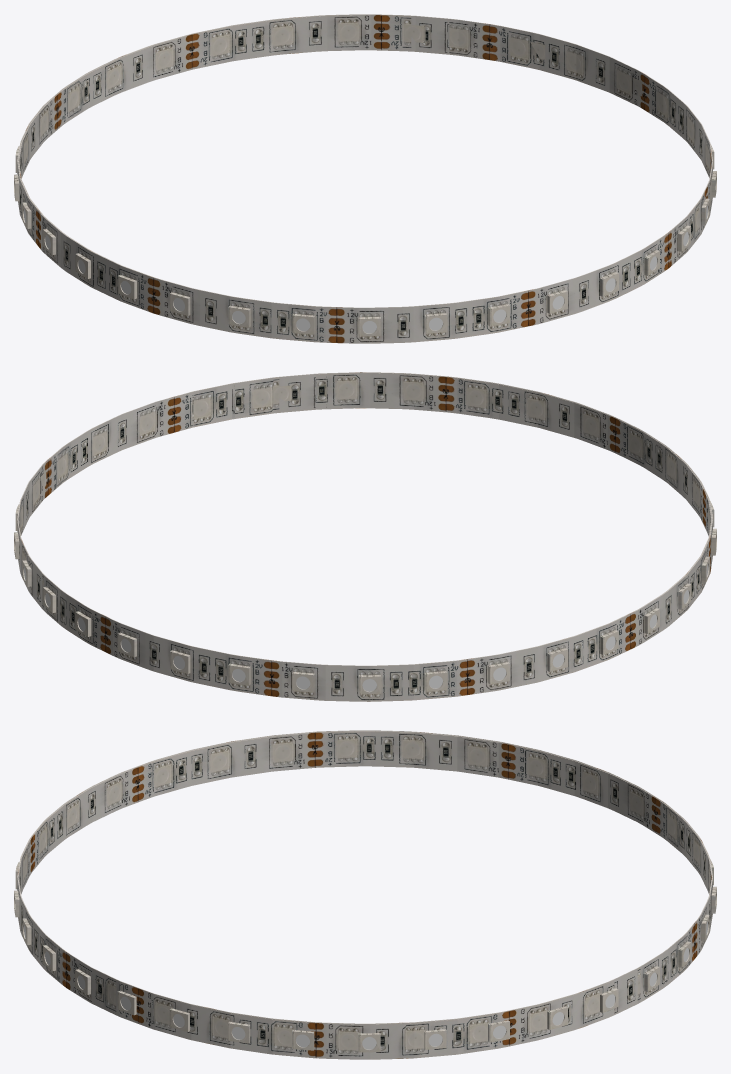
The model's file is led_strip_03.fbx.
The picture shows the model from 3 angles, top to bottom: view 1: azimuth 30°, elevation 25°; view 2: azimuth 150°, elevation 25°; view 3: azimuth 270°, elevation 25°; orthographic projection.
Parts seen in each view (by area): view 1: LED Streifen.001, LED Streifen.005; view 2: LED Streifen.001, LED Streifen.005; view 3: LED Streifen.005, LED Streifen.001.
Part boxes in pixels (x1,y1,x2,y2): LED Streifen.001: (14,14,716,343); LED Streifen.005: (18,15,712,302); LED Streifen.001: (14,372,716,701); LED Streifen.005: (17,373,711,660); LED Streifen.005: (18,731,712,1059); LED Streifen.001: (14,730,716,1059).
Size of the model in its own units: 399 by 22.47 by 400.
